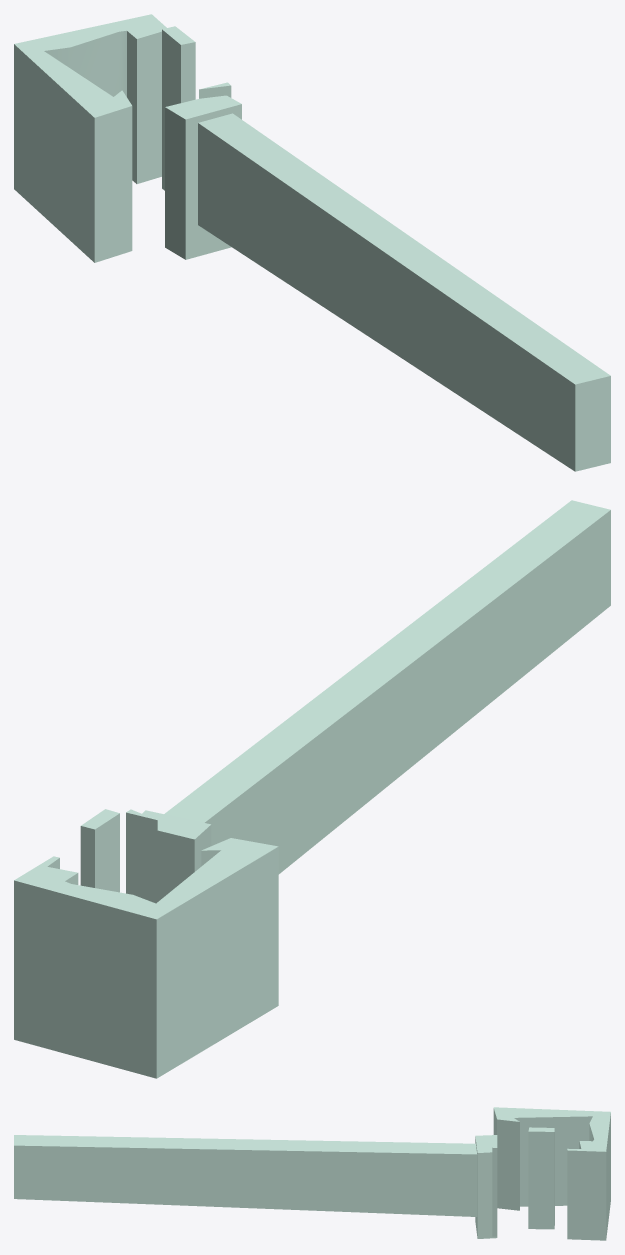
The picture shows the model from 3 angles, top to bottom: view 1: azimuth 30°, elevation 25°; view 2: azimuth 150°, elevation 25°; view 3: azimuth 270°, elevation 25°; orthographic projection. The views are drawn at different scales.
Parts seen in each view (by area): view 1: Renderer Node; view 2: Renderer Node; view 3: Renderer Node.
Part boxes in pixels (box(x1,y1,x2,y2)): Renderer Node: box(14, 14, 610, 471); Renderer Node: box(14, 500, 610, 1078); Renderer Node: box(14, 1107, 610, 1240).
Bounding box in the file's own units: 0.2605 × 0.2891 × 1.47.
